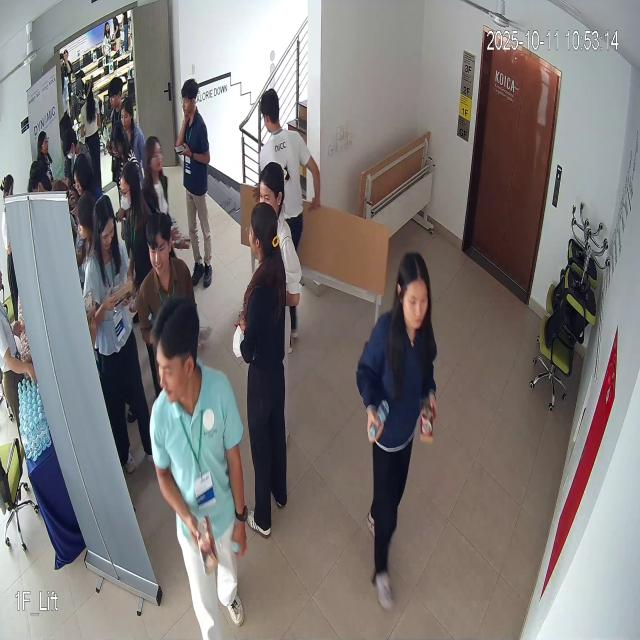face: (143, 207, 177, 272)
